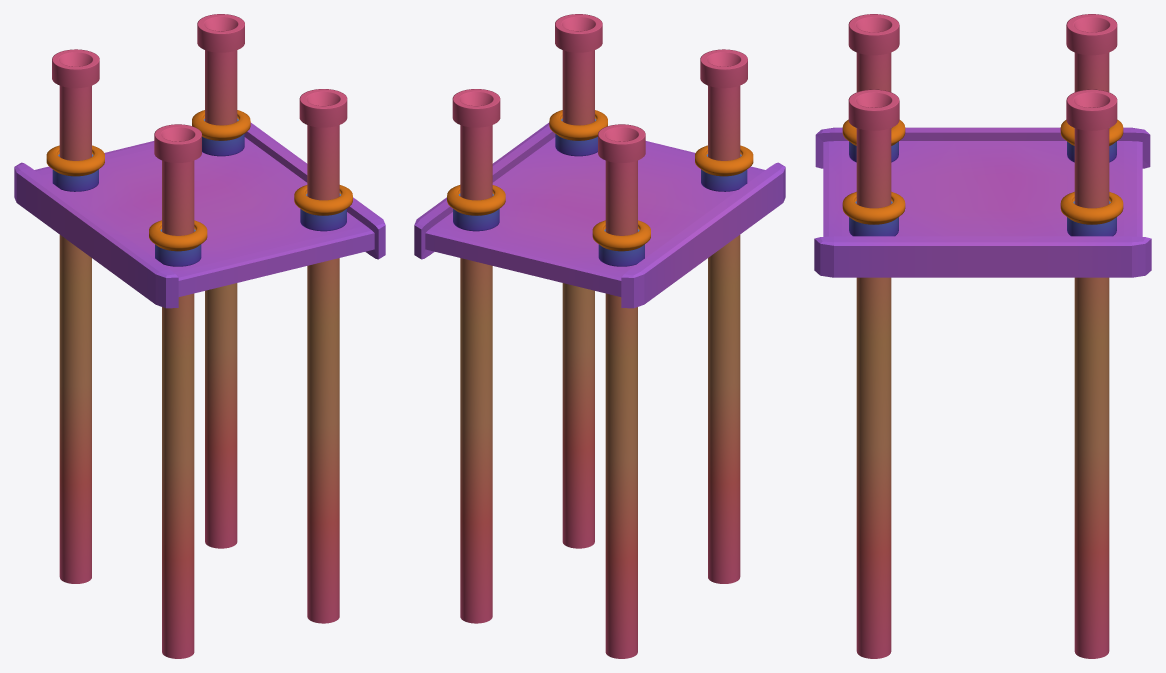
File: пример.fbx
The picture shows the model from 3 angles, left to right: view 1: azimuth 30°, elevation 25°; view 2: azimuth 150°, elevation 25°; view 3: azimuth 270°, elevation 25°; orthographic projection. The views are drawn at different scales.
Visible parts, largest first — view 1: Cylinder, Cube.007; view 2: Cylinder, Cube.007; view 3: Cube.007, Cylinder.
Part boxes in pixels (x1=…): Cylinder: x1=52, y1=14, x2=347, y2=658; Cube.007: x1=14, y1=110, x2=385, y2=308; Cylinder: x1=452, y1=14, x2=747, y2=658; Cube.007: x1=414, y1=110, x2=785, y2=308; Cube.007: x1=814, y1=119, x2=1151, y2=277; Cylinder: x1=848, y1=14, x2=1117, y2=658.
Bounding box in the file's own units: 786 × 1712 × 948.
